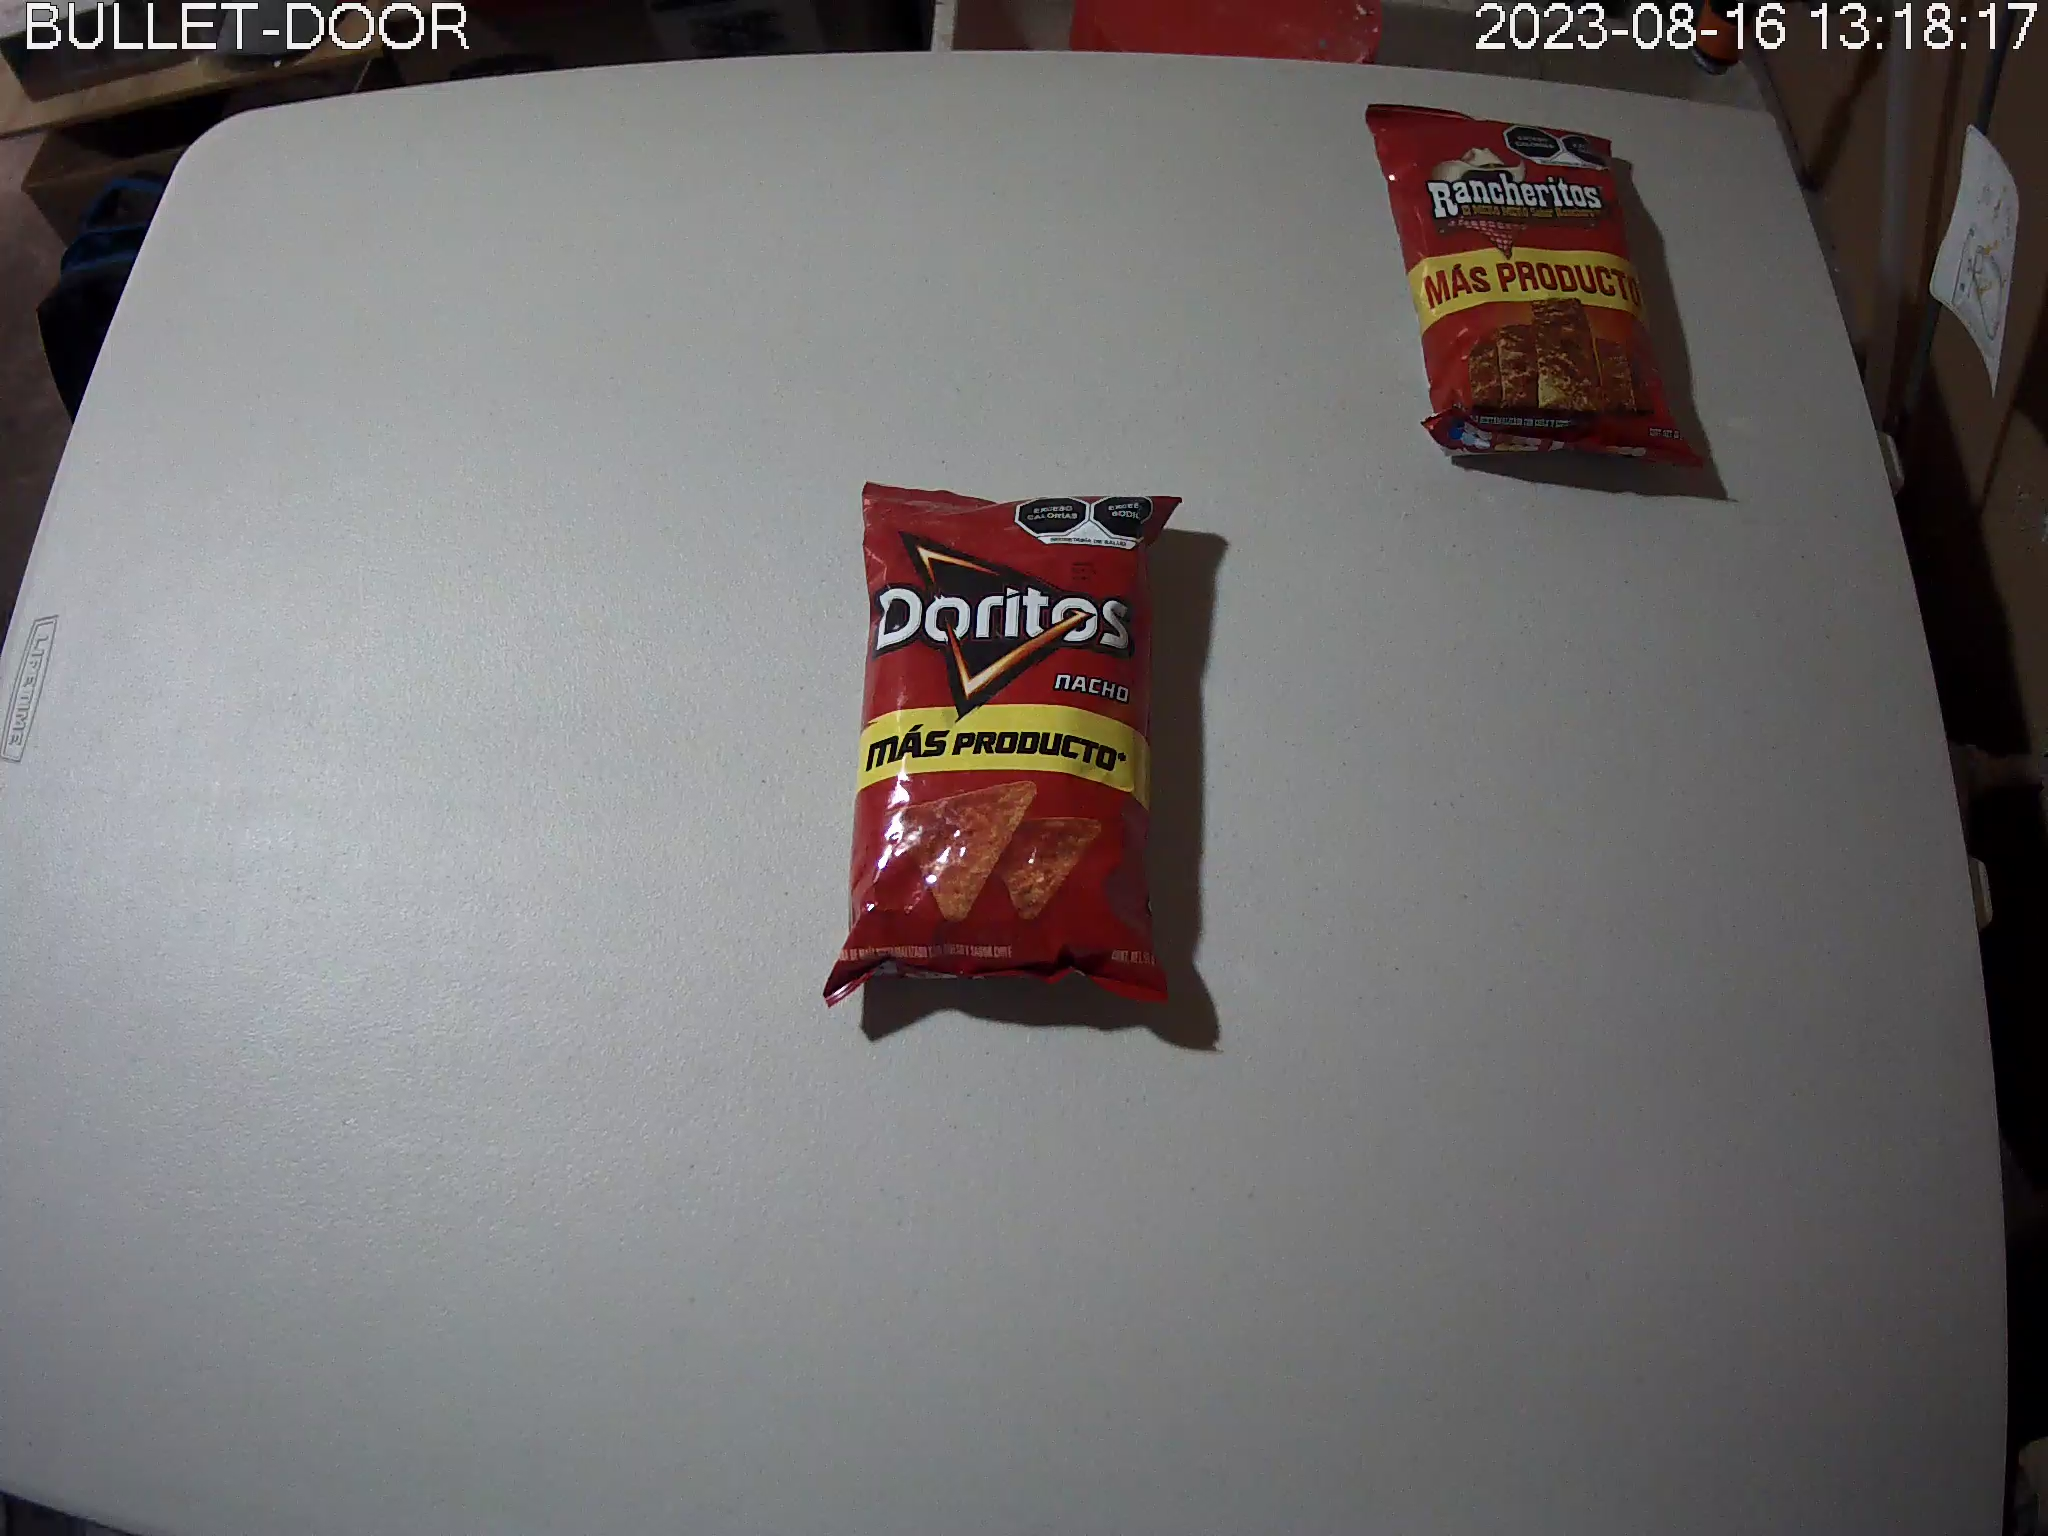DoritosN_61_F: (834, 482, 1193, 1008)
Rancheritos_58_F: (1363, 98, 1706, 473)
